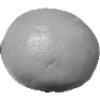faced: (30, 43, 70, 77)
